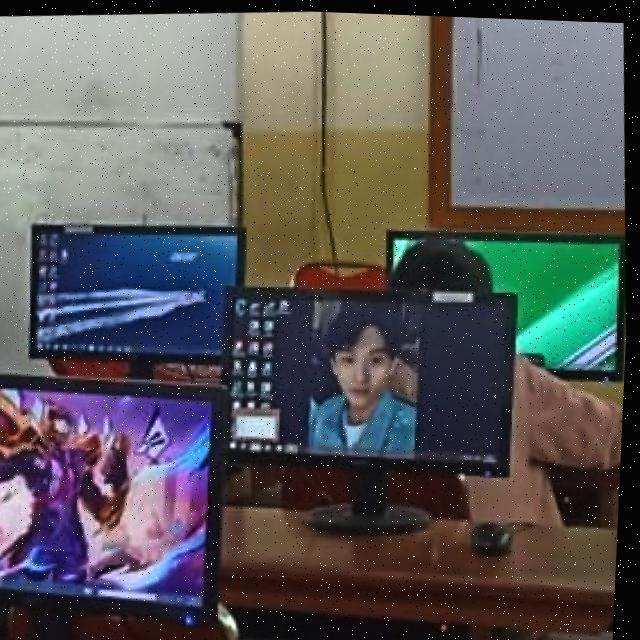onscreen: (0, 376, 229, 605), (236, 286, 515, 469), (36, 227, 243, 354), (466, 236, 622, 371)
